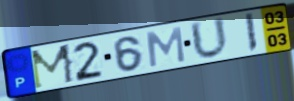2: (71, 40, 107, 84)
6: (112, 34, 144, 73)
I: (243, 11, 259, 54)
M: (28, 42, 77, 92), (144, 25, 187, 69)
U: (188, 15, 231, 61)
